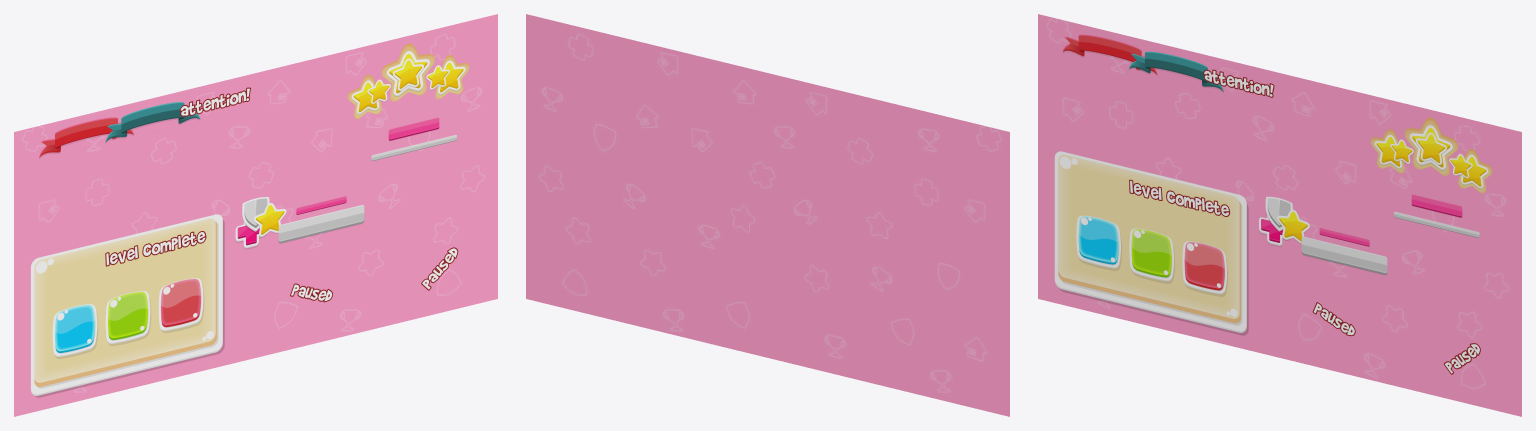
3 views of the same model, side by side, from view 1: azimuth 30°, elevation 25°; view 2: azimuth 150°, elevation 25°; view 3: azimuth 330°, elevation 25° (orthographic).
Visible parts, largest first — view 1: bg, wnd_ui1, wnd_ui2_bt, lin1, clip_fg, clip_bg, jelem2, #pff:mask, jelem1, wnd_ui1.001, alpha_blink_test, ao_el1 (+6 smaller); view 2: bg; view 3: bg, wnd_ui1, wnd_ui2_bt, lin1, clip_fg, clip_bg, jelem2, #pff:mask, jelem1, wnd_ui1.001, alpha_blink_test, ao_el1 (+5 smaller).
Part boxes in pixels (bbox=[...]): bg: bbox=[14, 14, 497, 416]; wnd_ui1: bbox=[31, 214, 222, 396]; wnd_ui2_bt: bbox=[52, 278, 203, 356]; lin1: bbox=[278, 205, 364, 243]; clip_fg: bbox=[351, 51, 465, 114]; clip_bg: bbox=[347, 43, 469, 118]; jelem2: bbox=[105, 102, 200, 142]; #pff:mask: bbox=[367, 58, 449, 104]; jelem1: bbox=[39, 117, 133, 157]; wnd_ui1.001: bbox=[105, 231, 206, 266]; alpha_blink_test: bbox=[179, 87, 250, 116]; ao_el1: bbox=[254, 203, 286, 236]; bg: bbox=[526, 14, 1009, 416]; bg: bbox=[1038, 14, 1521, 416]; wnd_ui1: bbox=[1054, 151, 1246, 332]; wnd_ui2_bt: bbox=[1076, 215, 1227, 294]; lin1: bbox=[1301, 236, 1387, 275]; clip_fg: bbox=[1374, 125, 1488, 188]; clip_bg: bbox=[1370, 117, 1492, 193]; jelem2: bbox=[1129, 51, 1223, 92]; #pff:mask: bbox=[1390, 132, 1472, 178]; jelem1: bbox=[1062, 34, 1157, 75]; wnd_ui1.001: bbox=[1129, 179, 1230, 216]; alpha_blink_test: bbox=[1203, 69, 1274, 97]; ao_el1: bbox=[1277, 209, 1309, 243].
Size of the model in its own units: 19.2 by 10.8 by 0.0483.
19 materials, 19 textured.
